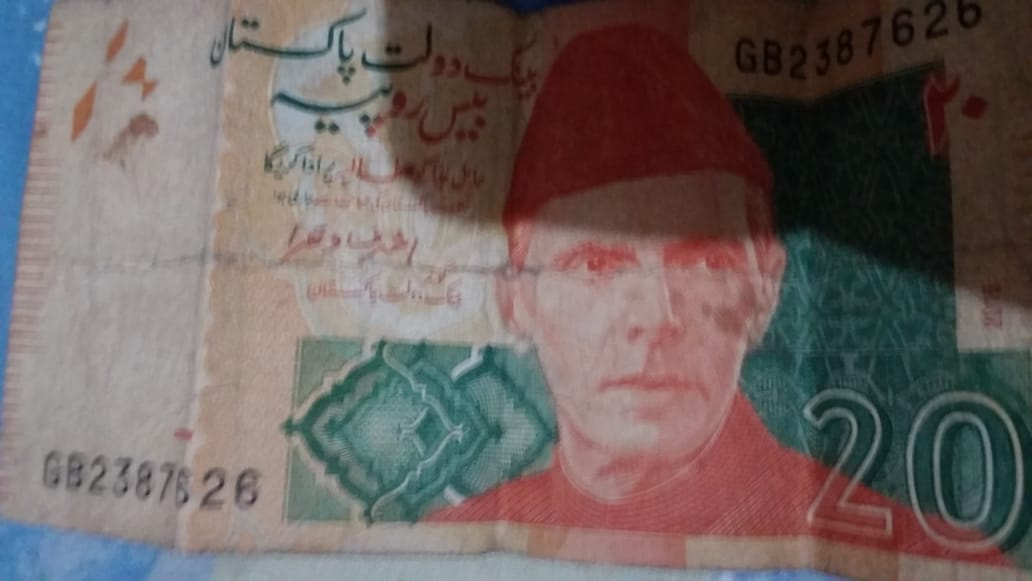20 rupee: (23, 15, 1020, 555)
